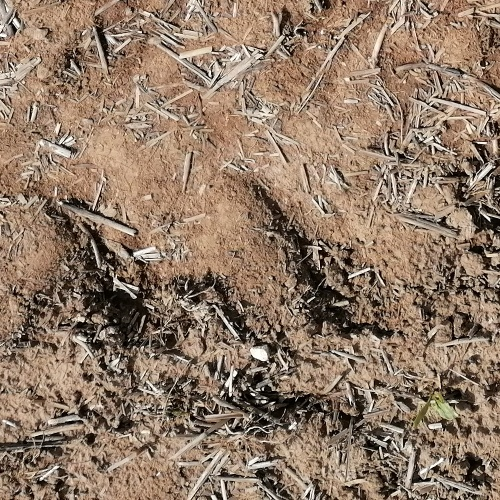beet: (412, 390, 457, 430)
